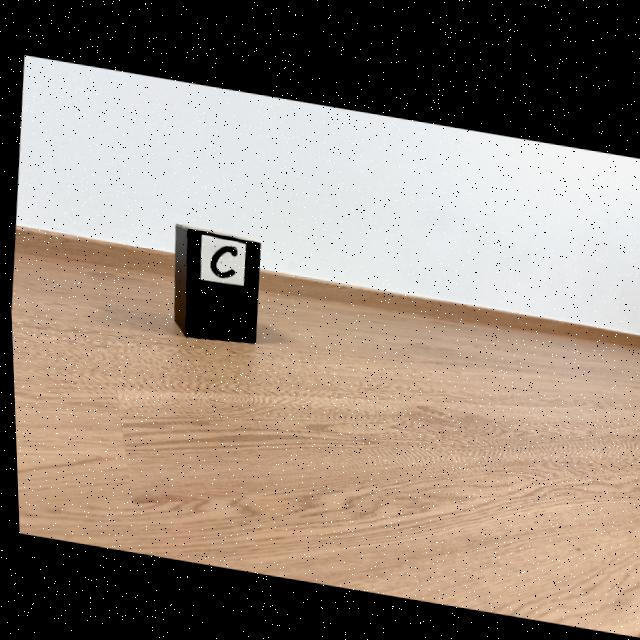C: (208, 241, 235, 275)
